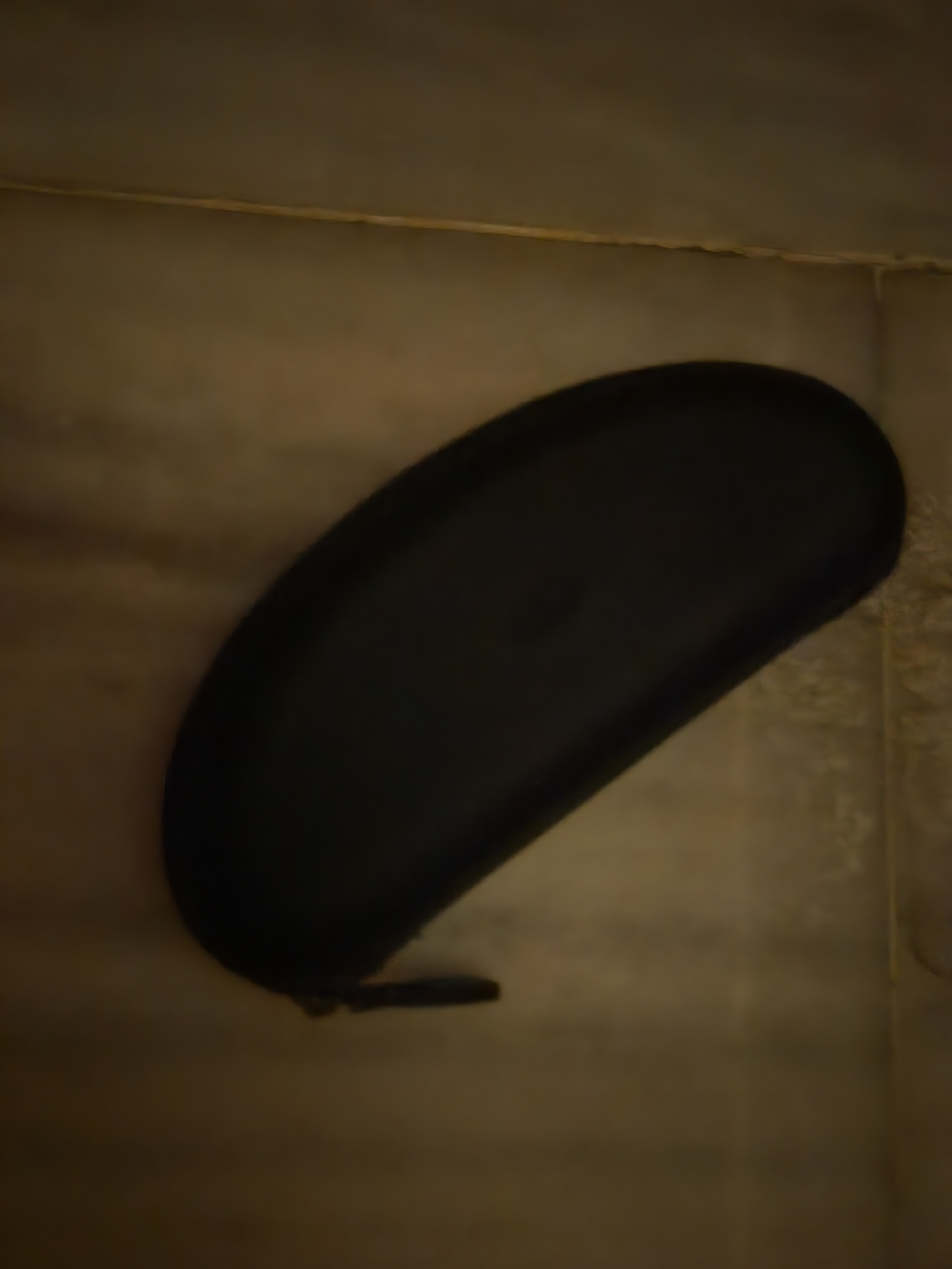case: (152, 346, 923, 1023)
